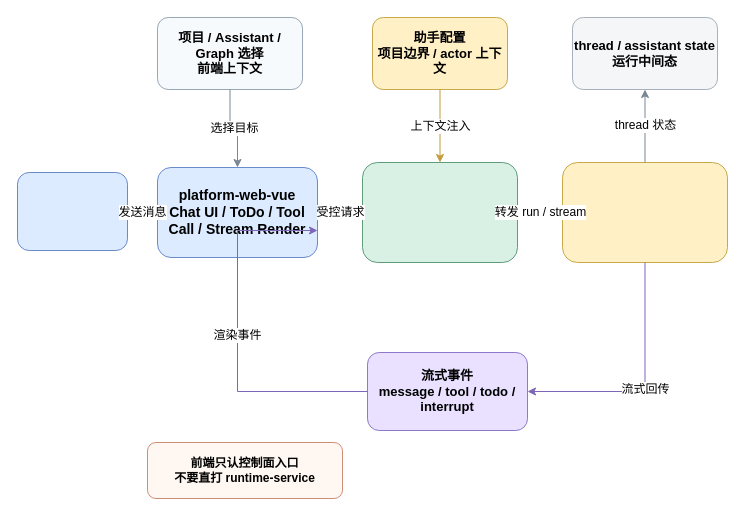
The diagram is 745 pixels wide and 516 high, and some of its shapes have lost their labels. The centre of each missing label's shape, as x and y in pixels:
"platform-api-v2 runtime_gateway / assistants" goes at (x=440, y=212).
"runtime-service graph / thread / run / stream" goes at (x=645, y=212).
"用户 Chat 页面" goes at (x=72, y=211).
